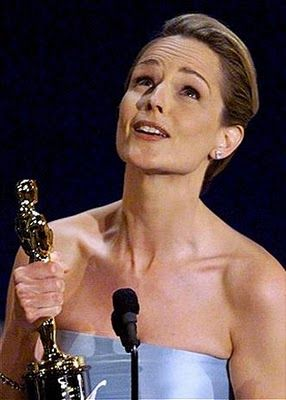hand: (13, 270, 62, 336)
